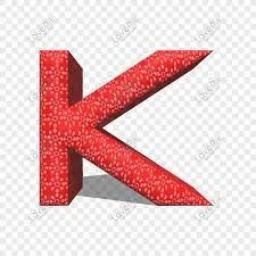k: (27, 30, 229, 230)
